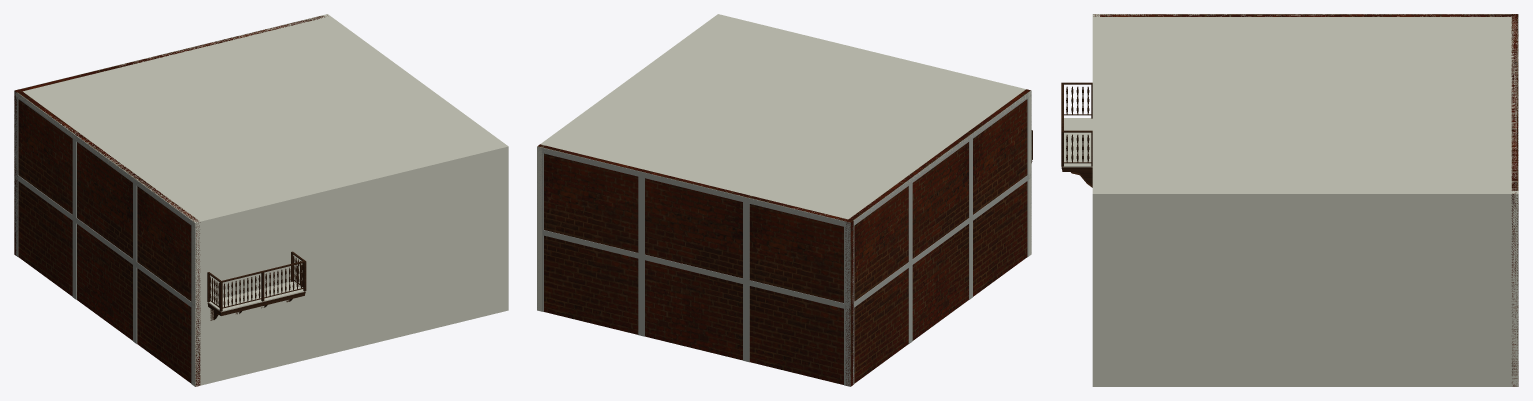
File: building.glb
3 renders of one model, left to right at view 1: azimuth 30°, elevation 25°; view 2: azimuth 150°, elevation 25°; view 3: azimuth 270°, elevation 25°, orthographic. The views are drawn at different scales.
Parts seen in each view (by area): view 1: roof/house:0/roof_slab#0001, house:0/edge0/z0/house:0/edge0/z0/wall_0_0, house:0/edge3/z0/house:0/edge3/z0/wall_0_0, house:0/edge2/z0/house:0/edge2/z0/wall_0_0, house:0/edge3/z0/house:0/edge3/z0/beam_0_0, house:0/edge3/z0/house:0/edge3/z0/beam_1_0, house:0/edge1/z0/house:0/edge1/z0/wall_0_0, balcony/sample/balcony_platform#0001, balcony/sample/balcony_fascia#0001; view 2: roof/house:0/roof_slab#0001, house:0/edge2/z0/house:0/edge2/z0/wall_0_0, house:0/edge3/z0/house:0/edge3/z0/wall_0_0, house:0/edge1/z0/house:0/edge1/z0/wall_0_0, house:0/edge2/z0/house:0/edge2/z0/beam_1_0, house:0/edge2/z0/house:0/edge2/z0/beam_0_0, house:0/edge0/z0/house:0/edge0/z0/wall_0_0, house:0/edge3/z0/house:0/edge3/z0/beam_0_0, house:0/edge3/z0/house:0/edge3/z0/beam_1_0, house:0/edge2/z0/house:0/edge2/z0/column_2_0, house:0/edge2/z0/house:0/edge2/z0/column_2_1, house:0/edge2/z0/house:0/edge2/z0/column_3_0 (+3 smaller); view 3: house:0/edge1/z0/house:0/edge1/z0/wall_0_0, roof/house:0/roof_slab#0001, house:0/edge0/z0/house:0/edge0/z0/wall_0_0, house:0/edge2/z0/house:0/edge2/z0/wall_0_0, balcony/sample/balcony_platform#0001, house:0/edge3/z0/house:0/edge3/z0/wall_0_0.
Part boxes in pixels (box(x1,y1,x2,y2)): roof/house:0/roof_slab#0001: box(15, 14, 506, 225); house:0/edge0/z0/house:0/edge0/z0/wall_0_0: box(192, 144, 508, 386); house:0/edge3/z0/house:0/edge3/z0/wall_0_0: box(17, 89, 200, 386); house:0/edge2/z0/house:0/edge2/z0/wall_0_0: box(14, 15, 327, 255); house:0/edge3/z0/house:0/edge3/z0/beam_0_0: box(14, 173, 195, 309); house:0/edge3/z0/house:0/edge3/z0/beam_1_0: box(14, 92, 195, 227); house:0/edge1/z0/house:0/edge1/z0/wall_0_0: box(323, 14, 508, 311); balcony/sample/balcony_platform#0001: box(208, 281, 304, 312); balcony/sample/balcony_fascia#0001: box(207, 291, 305, 315); roof/house:0/roof_slab#0001: box(540, 14, 1031, 223); house:0/edge2/z0/house:0/edge2/z0/wall_0_0: box(538, 144, 853, 386); house:0/edge3/z0/house:0/edge3/z0/wall_0_0: box(845, 89, 1030, 385); house:0/edge1/z0/house:0/edge1/z0/wall_0_0: box(537, 15, 722, 311); house:0/edge2/z0/house:0/edge2/z0/beam_1_0: box(538, 147, 850, 228); house:0/edge2/z0/house:0/edge2/z0/beam_0_0: box(542, 230, 850, 309); house:0/edge0/z0/house:0/edge0/z0/wall_0_0: box(717, 14, 1031, 256); house:0/edge3/z0/house:0/edge3/z0/beam_0_0: box(850, 172, 1031, 309); house:0/edge3/z0/house:0/edge3/z0/beam_1_0: box(850, 90, 1031, 227); house:0/edge2/z0/house:0/edge2/z0/column_2_0: box(638, 176, 644, 254); house:0/edge2/z0/house:0/edge2/z0/column_2_1: box(638, 258, 644, 336); house:0/edge2/z0/house:0/edge2/z0/column_3_0: box(743, 202, 749, 280); house:0/edge1/z0/house:0/edge1/z0/wall_0_0: box(1092, 191, 1518, 386); roof/house:0/roof_slab#0001: box(1092, 14, 1518, 198); house:0/edge0/z0/house:0/edge0/z0/wall_0_0: box(1092, 14, 1099, 386); house:0/edge2/z0/house:0/edge2/z0/wall_0_0: box(1511, 14, 1518, 386); balcony/sample/balcony_platform#0001: box(1063, 118, 1092, 167); house:0/edge3/z0/house:0/edge3/z0/wall_0_0: box(1093, 14, 1517, 16).
Bounding box in the file's own units: 12 × 6 × 12.89.
4 materials, 2 textured.
